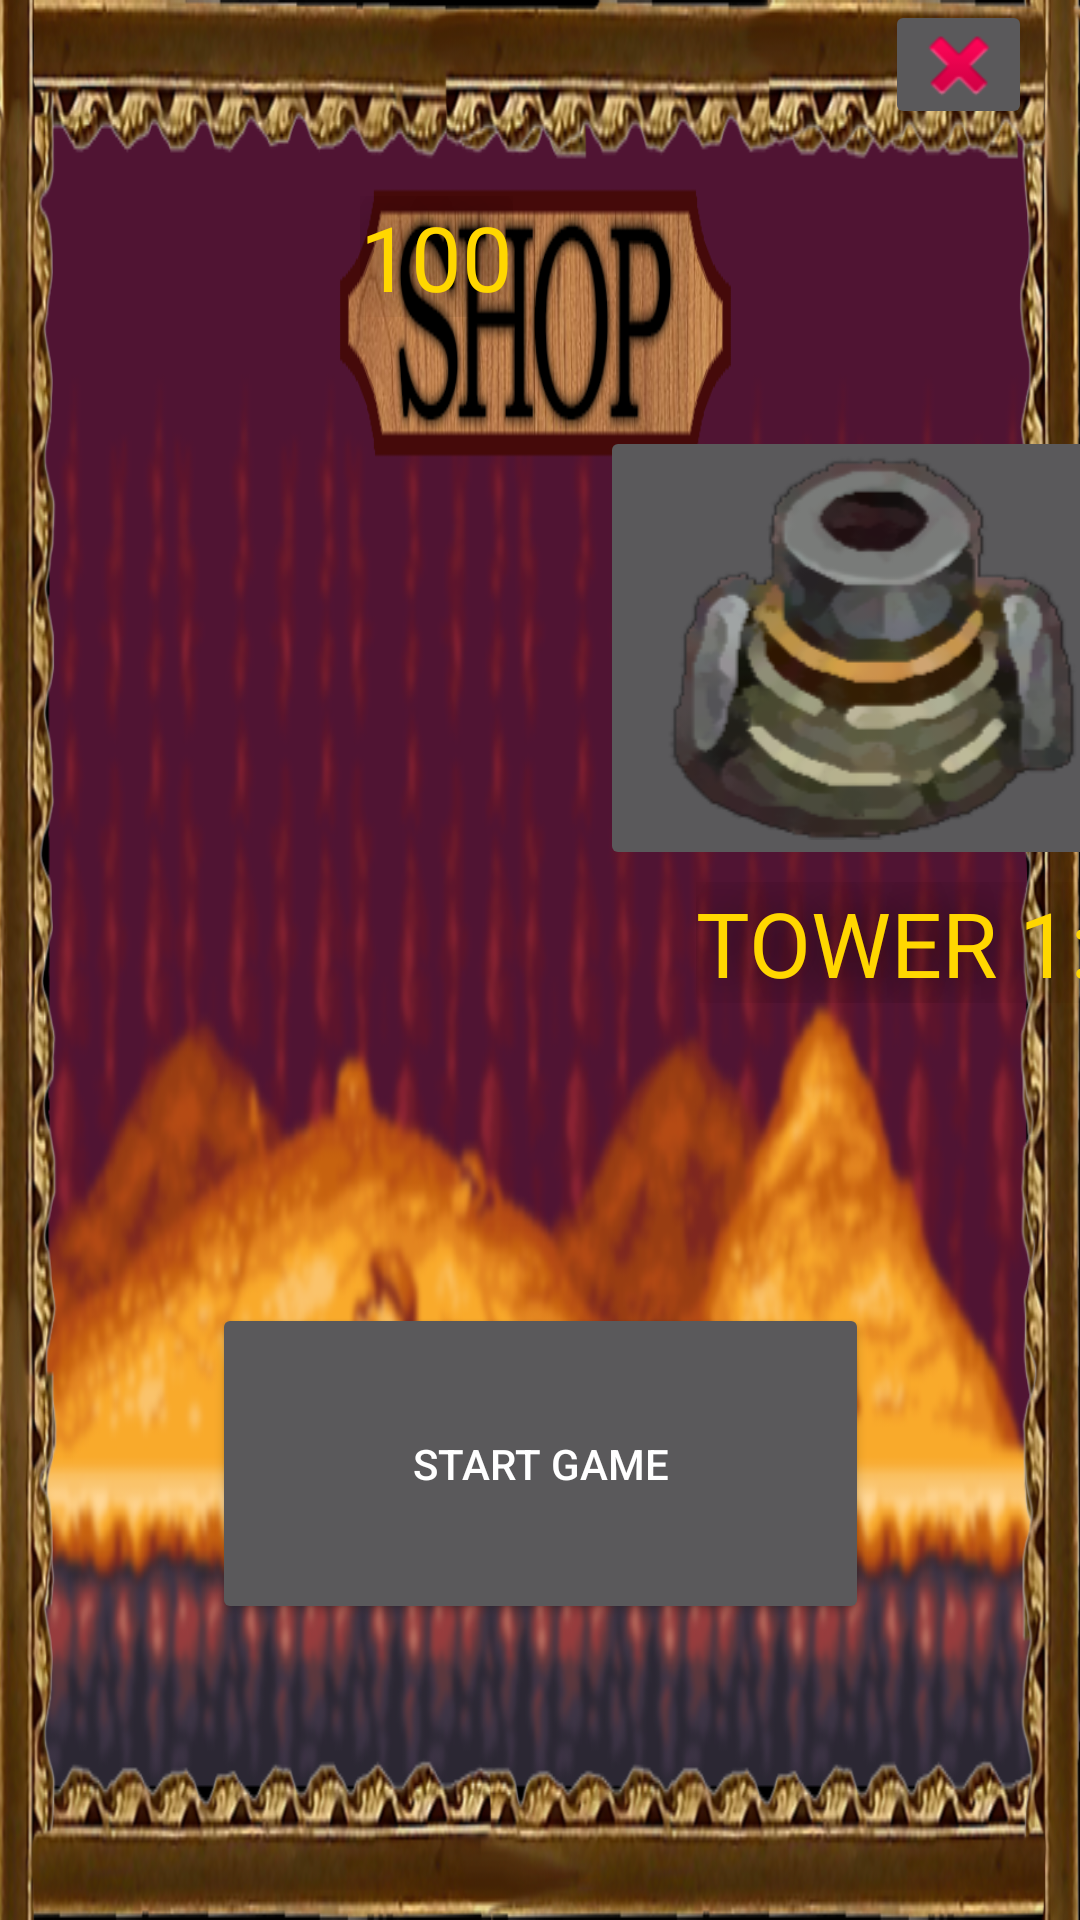

Point at icon controls on the screen. Image size 1080px×1920px, points as [x,y].
delete: [958,64]
